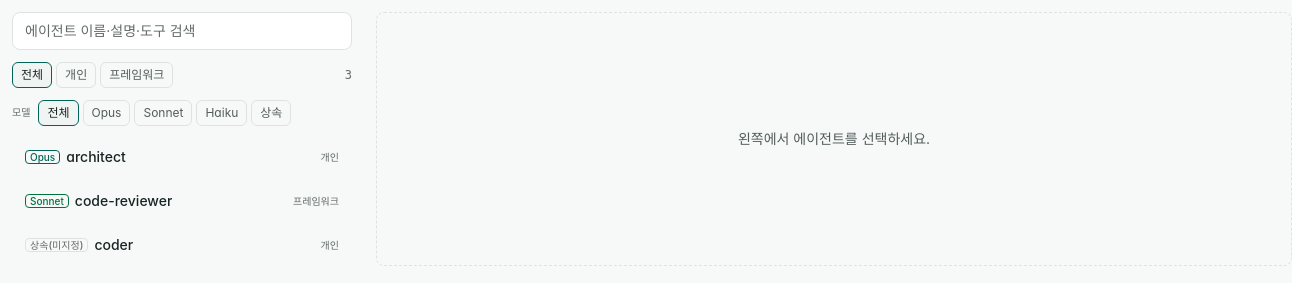
Test case: AgentCatalog 필터 › 프레임워크 출처 필터 시 개인 에이전트가 숨는다
What coordinates should you click on to do the following:
click the button "프레임워크"
I would click on:
 (137, 75)
Its box is x1=100 y1=62 x2=173 y2=88.
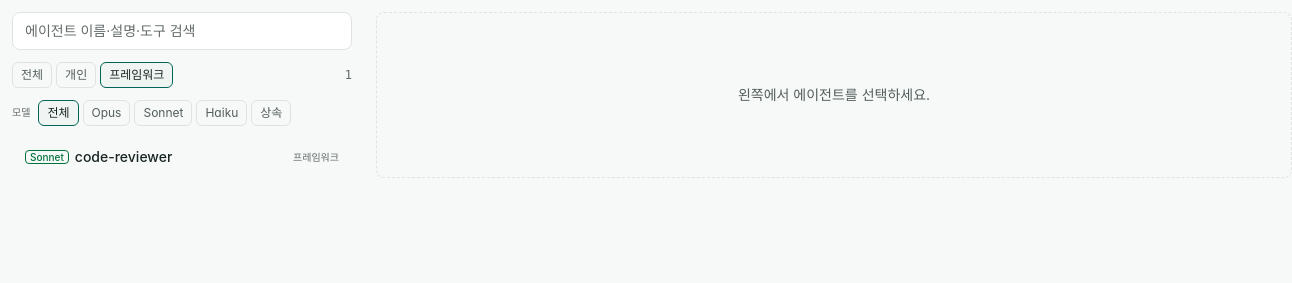
Expected: the text "code-reviewer" is shown, x1=75 y1=147 x2=172 y2=167
Expected: the button "architect" is gone
Expected: the button "coder" is gone
